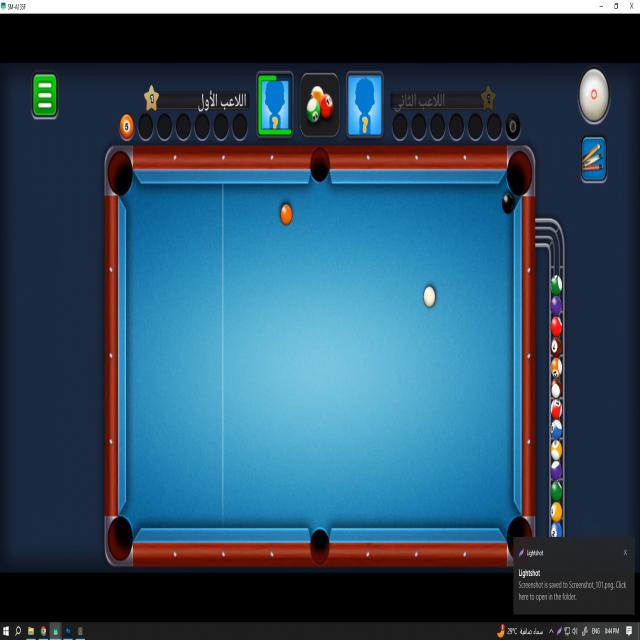object_ball: (502, 192, 514, 213), (281, 204, 292, 225)
white_cue_ball: (424, 286, 435, 307)
